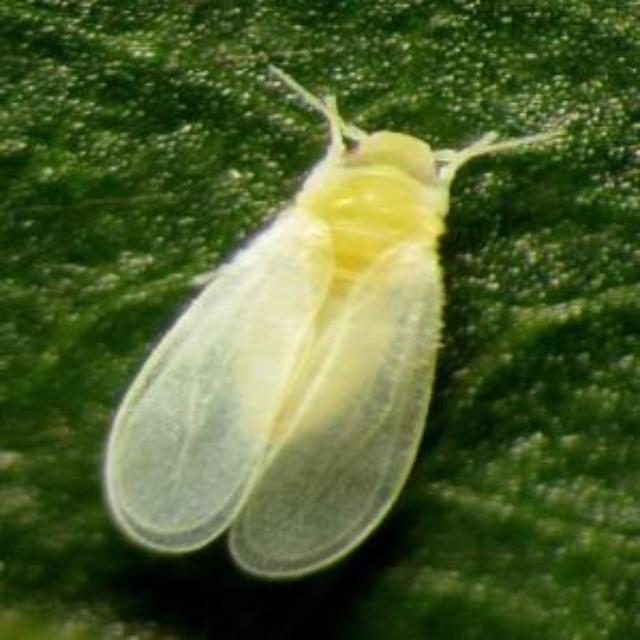Silverleaf whitefly: (90, 49, 566, 584)
